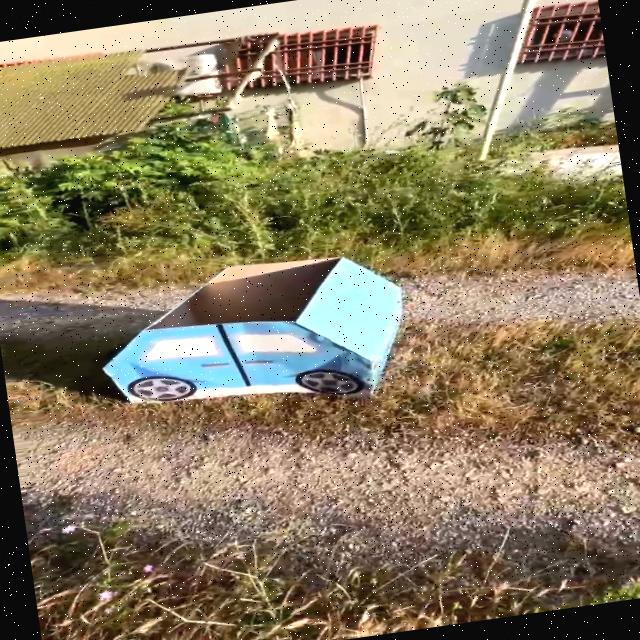blue_car: (23, 213, 462, 464)
